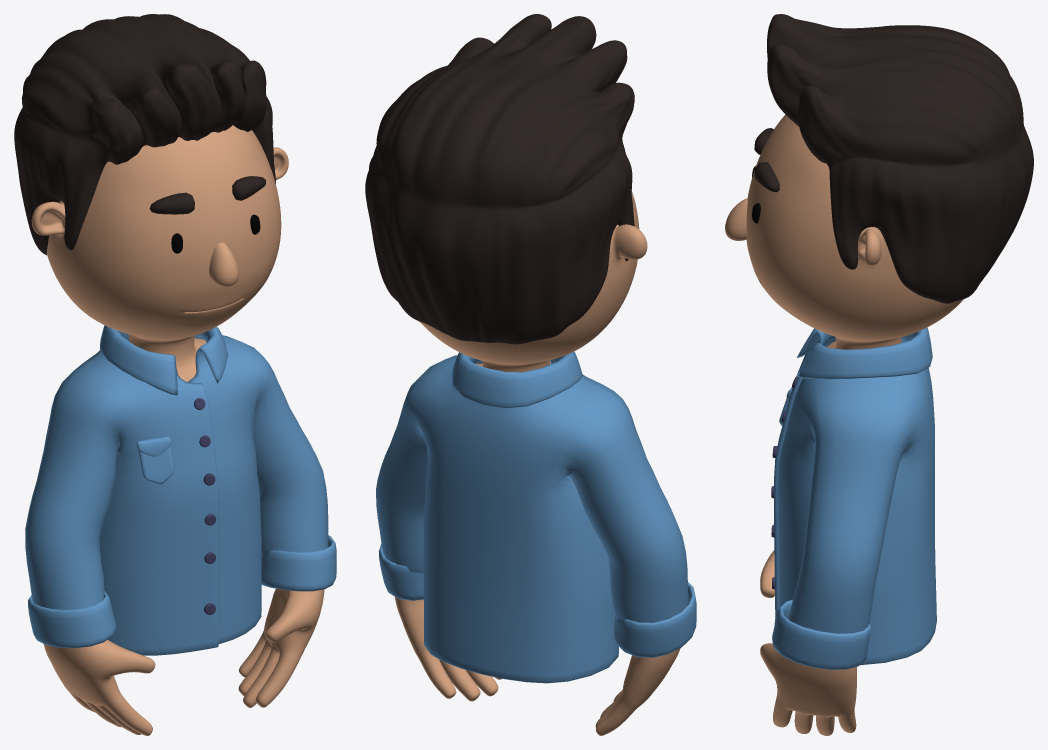
3 views of the same model, side by side, from view 1: azimuth 30°, elevation 25°; view 2: azimuth 150°, elevation 25°; view 3: azimuth 270°, elevation 25° (orthographic). The views are drawn at different scales.
Parts seen in each view (by area): view 1: Shirt, body, Hair_3, Eyebrow.007, nose; view 2: Shirt, Hair_3, body; view 3: Hair_3, Shirt, body, Eyebrow.007, nose.
Boxes of the visible parts, x1,y1,x2,y2 form: Shirt: (25,325,336,655); body: (31,125,324,735); Hair_3: (14,14,275,255); Eyebrow.007: (149,176,266,214); nose: (209,242,238,287); Shirt: (376,351,696,683); Hair_3: (365,14,634,344); body: (394,191,680,735); Hair_3: (767,14,1033,303); Shirt: (771,327,936,669); body: (746,114,963,735); Eyebrow.007: (754,128,779,192); nose: (725,198,747,240).
Size of the model in its own units: 6.4 by 13.95 by 5.74.
